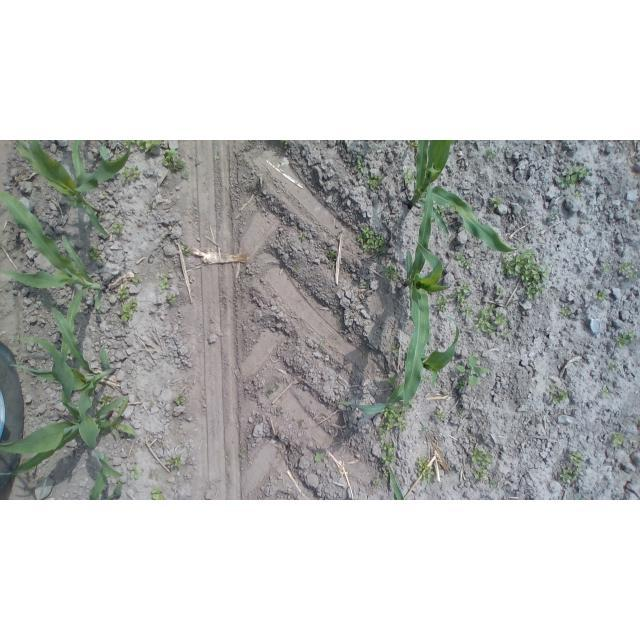Maize: (10, 307, 124, 478), (1, 191, 112, 361), (1, 338, 136, 475), (408, 140, 521, 252), (336, 318, 460, 415), (16, 140, 132, 236), (403, 175, 450, 405), (88, 451, 123, 500), (388, 464, 405, 501)
Weeds: (501, 249, 550, 299), (457, 353, 491, 392), (380, 405, 414, 441), (476, 303, 507, 336), (469, 447, 494, 482), (356, 226, 385, 252), (556, 167, 591, 188), (454, 280, 473, 316), (417, 455, 437, 485), (161, 148, 185, 170), (380, 442, 398, 466), (132, 140, 165, 153), (560, 466, 582, 485), (550, 382, 568, 404), (121, 300, 139, 322), (614, 330, 634, 349), (121, 168, 141, 185), (436, 294, 450, 315), (567, 448, 583, 466), (115, 284, 129, 302), (404, 166, 417, 185), (367, 173, 382, 189), (166, 454, 182, 469), (381, 265, 398, 278), (87, 245, 101, 260), (455, 377, 468, 392), (619, 262, 633, 275), (611, 433, 625, 446), (486, 147, 499, 160), (454, 251, 466, 265), (435, 408, 446, 423), (166, 290, 177, 305), (592, 289, 608, 299), (99, 393, 112, 405), (152, 488, 165, 500), (357, 156, 364, 177), (326, 249, 338, 261), (159, 278, 170, 291), (173, 395, 186, 406), (601, 262, 611, 275), (113, 220, 122, 234), (624, 270, 636, 280), (371, 476, 381, 488), (391, 343, 399, 358), (130, 467, 139, 480), (438, 204, 447, 217), (182, 244, 191, 257), (502, 330, 513, 340), (181, 170, 191, 181), (492, 196, 502, 207), (495, 287, 505, 298), (602, 387, 611, 399), (388, 375, 397, 386), (465, 258, 473, 270), (314, 452, 324, 461), (608, 363, 617, 372), (132, 276, 141, 285), (421, 376, 429, 386), (501, 253, 512, 260), (292, 267, 300, 276), (359, 280, 368, 288), (297, 419, 306, 427), (562, 308, 571, 316), (422, 425, 429, 435), (429, 332, 434, 346), (114, 150, 121, 160), (458, 406, 466, 414), (266, 390, 274, 398), (300, 234, 307, 243), (490, 480, 497, 489), (278, 406, 285, 415), (362, 350, 369, 359), (214, 148, 219, 160), (587, 181, 594, 188), (575, 493, 582, 500), (98, 212, 105, 219), (411, 141, 418, 148), (384, 471, 391, 478), (274, 384, 281, 391), (631, 438, 637, 445), (147, 206, 154, 212), (105, 320, 112, 326), (103, 191, 108, 199), (468, 433, 474, 439), (575, 191, 580, 197), (320, 341, 325, 347), (240, 450, 245, 456), (430, 348, 435, 353), (283, 140, 288, 144), (281, 397, 284, 402)
